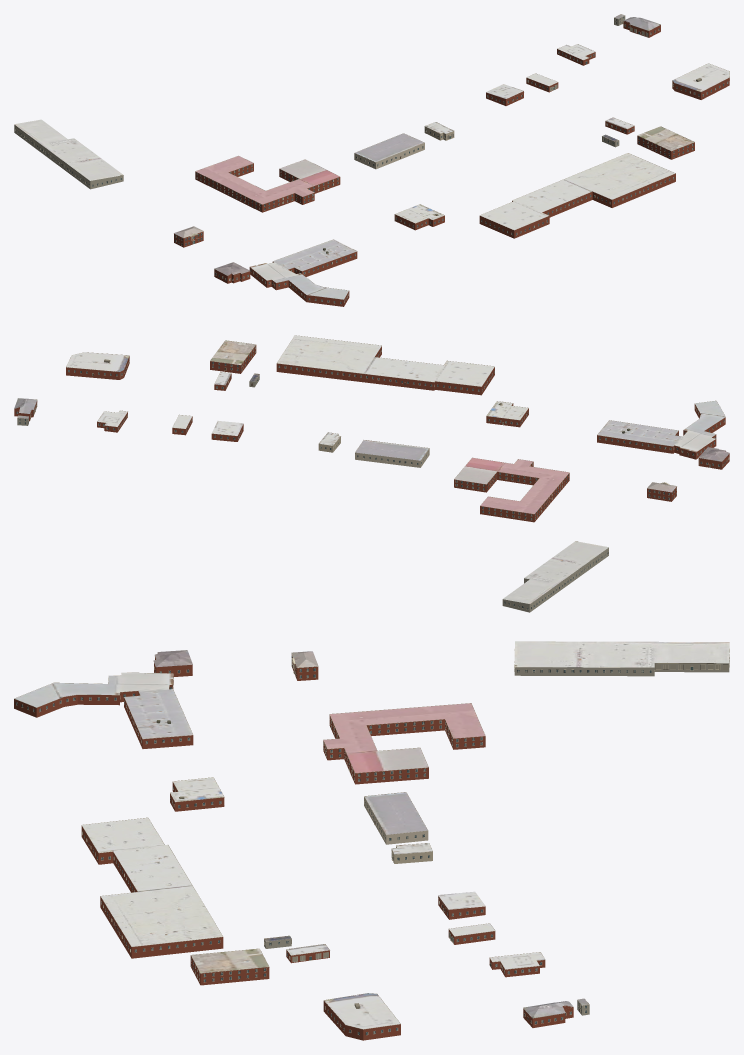
3 renders of one model, top to bottom at view 1: azimuth 30°, elevation 25°; view 2: azimuth 150°, elevation 25°; view 3: azimuth 270°, elevation 25°, orthographic. The views are drawn at different scales.
Visible parts, largest first — view 1: -8_0_269008172_15, -8_0_270268420_24, -8_0_269009156_18; view 2: -8_0_269008172_15, -8_0_270268420_24, -8_0_269009156_18; view 3: -8_0_269008172_15, -8_0_270268420_24, -8_0_269009156_18.
Part boxes in pixels (x1,y1,x2,y2): -8_0_269008172_15: [14, 14, 729, 306]; -8_0_270268420_24: [14, 16, 625, 189]; -8_0_269009156_18: [323, 22, 622, 189]; -8_0_269008172_15: [14, 335, 729, 609]; -8_0_270268420_24: [17, 375, 608, 612]; -8_0_269009156_18: [92, 367, 710, 467]; -8_0_269008172_15: [14, 641, 729, 1040]; -8_0_270268420_24: [264, 656, 729, 1015]; -8_0_269009156_18: [349, 767, 579, 1012].
Size of the model in its own units: 534 by 23.38 by 406.
16 materials, 1 textured.
